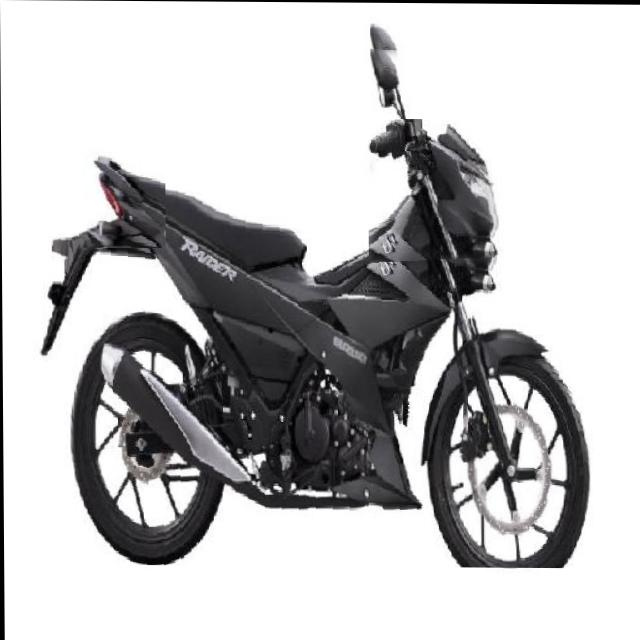All: (33, 26, 595, 568)
Head: (366, 118, 504, 263)
Tail: (73, 144, 166, 248)
